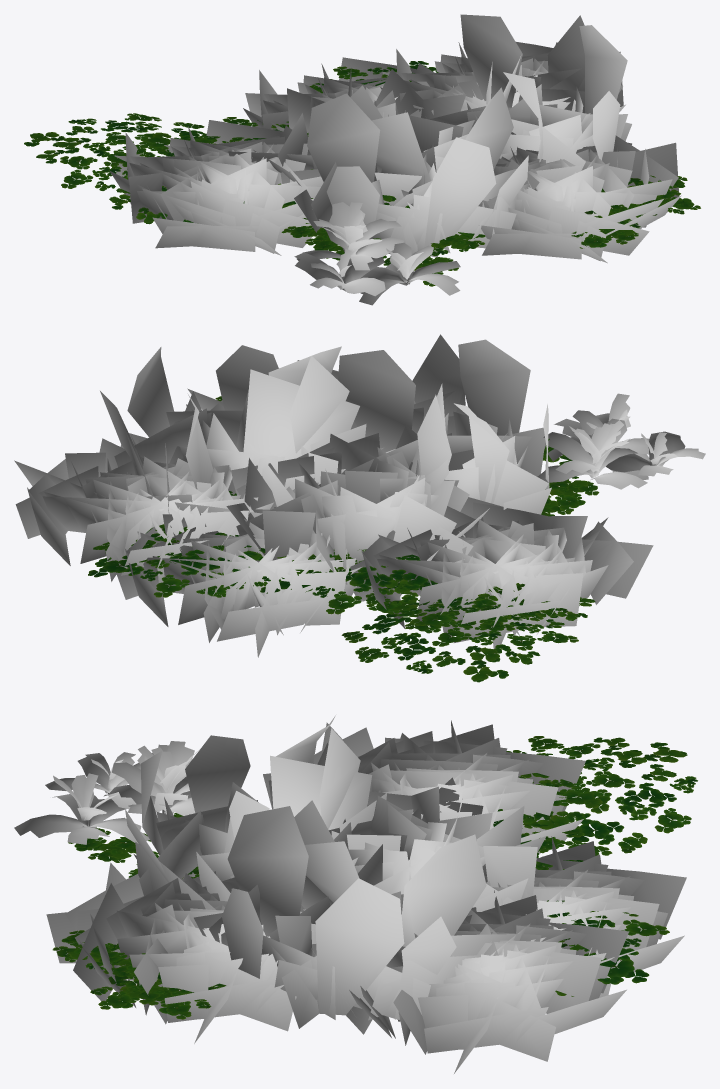
3 views of the same model, one above another, from view 1: azimuth 30°, elevation 25°; view 2: azimuth 150°, elevation 25°; view 3: azimuth 270°, elevation 25° (orthographic). The views are drawn at different scales.
Parts seen in each view (by area): view 1: SM_BM_Weeds_02_LOD0; view 2: SM_BM_Weeds_02_LOD0; view 3: SM_BM_Weeds_02_LOD0.
Boxes of the visible parts, x1,y1,x2,y2 form: SM_BM_Weeds_02_LOD0: (24, 14, 700, 305); SM_BM_Weeds_02_LOD0: (14, 334, 705, 682); SM_BM_Weeds_02_LOD0: (14, 715, 697, 1073).
Bounding box in the file's own units: 2.63 × 0.7173 × 2.4.
